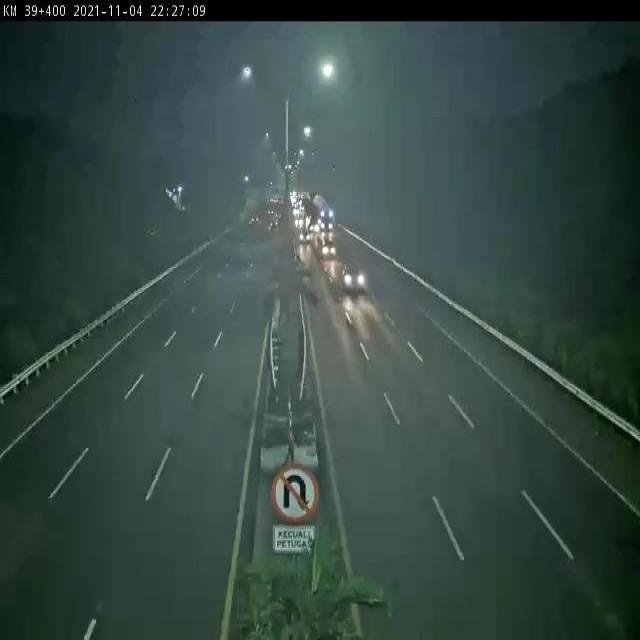car: (343, 264, 366, 291), (319, 238, 336, 258)
